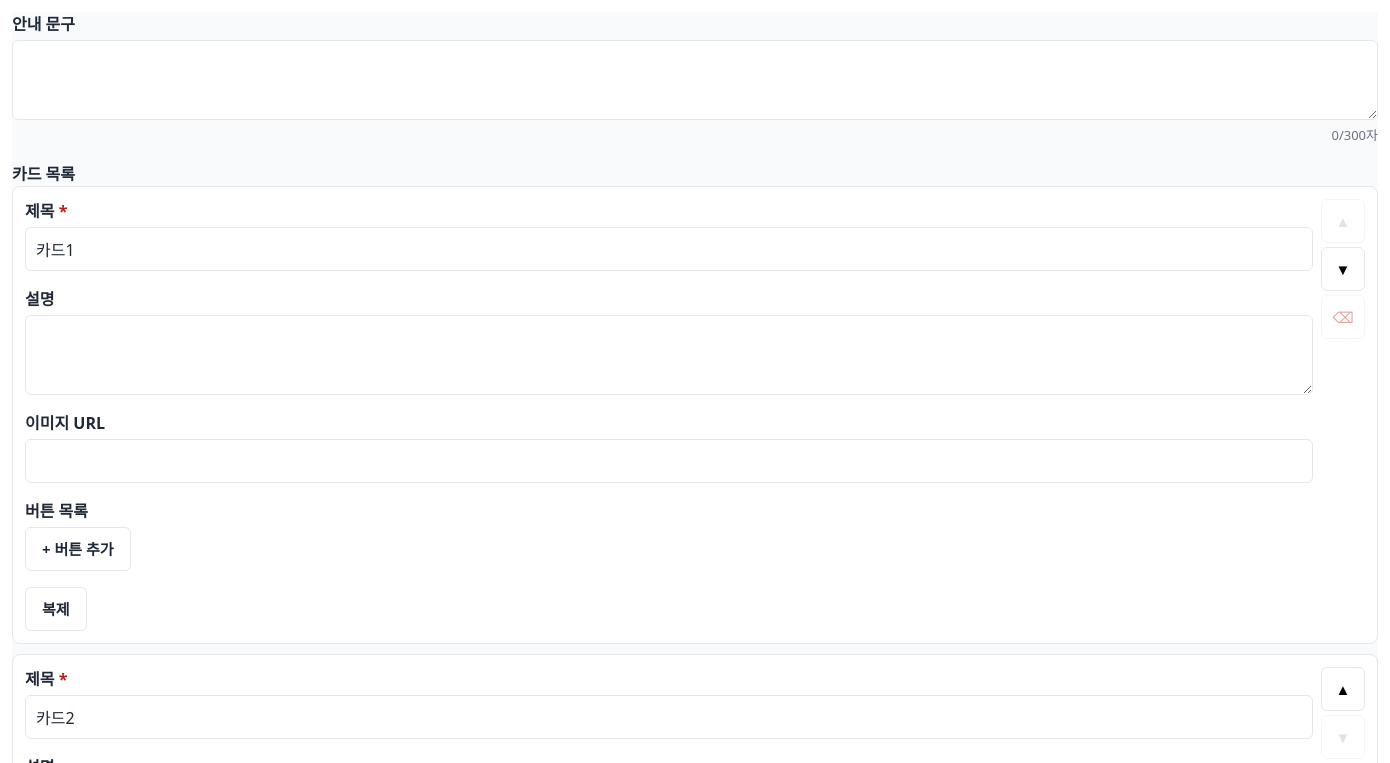
CarouselOutputEditor — 카드 목록 경계(RM-1, §3.1) › 복제 버튼을 누르면 같은 값의 카드가 바로 뒤에 추가된다
The image size is (1390, 763).
Expected: the 1st field labelled "제목 *" holds "카드1", [25,226,1313,270]
Click the button "복제" at (56, 608), box [25,586,87,630]
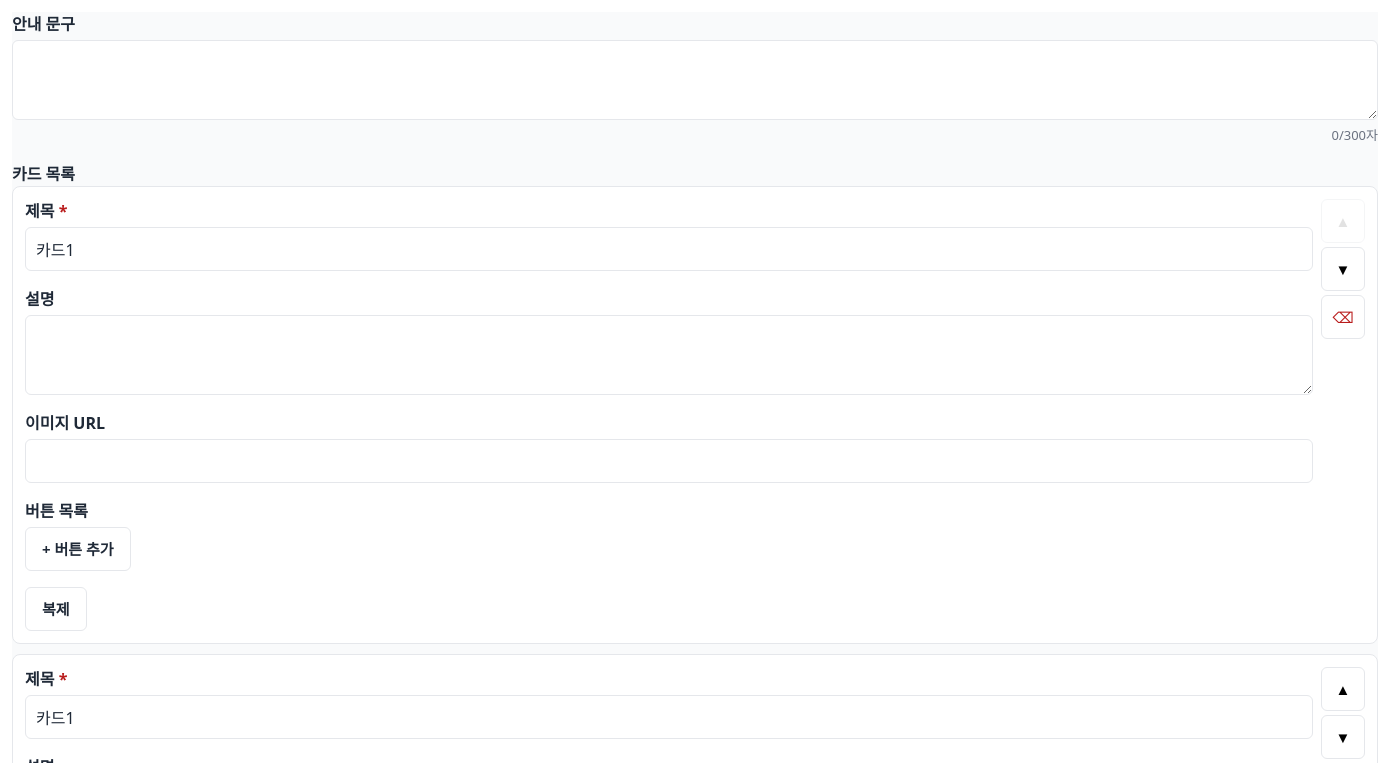
Expected: the 1st field labelled "제목 *" holds "카드1", [25,226,1313,270]
Expected: the number of fields labelled "제목 *" is 3
Expected: the 2nd field labelled "제목 *" holds "카드1", [25,694,1313,738]
